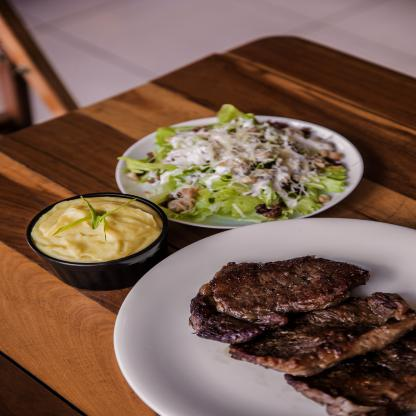Carne: (190, 254, 375, 347), (234, 291, 415, 375), (287, 331, 415, 415)
